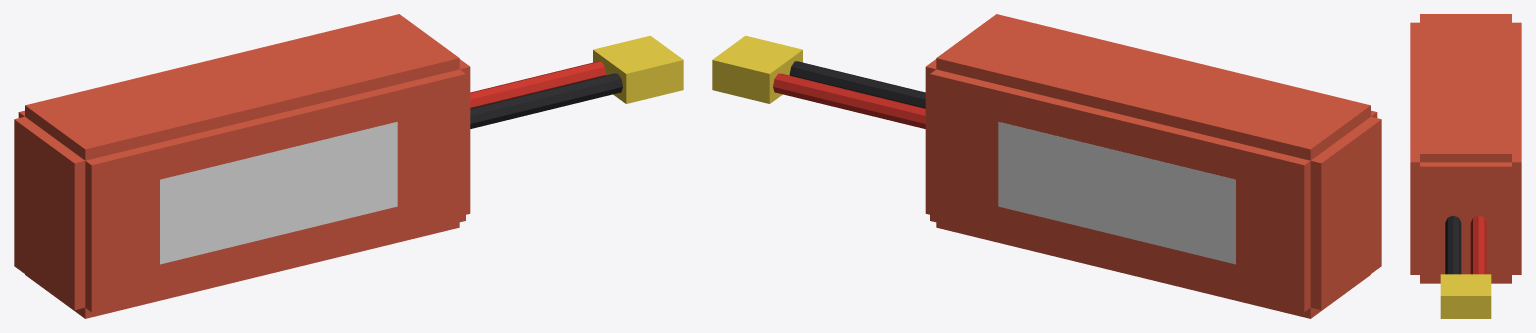
The model's file is Bat_LiPo2200.glb.
The picture shows the model from 3 angles, left to right: view 1: azimuth 30°, elevation 25°; view 2: azimuth 150°, elevation 25°; view 3: azimuth 270°, elevation 25°; orthographic projection. The views are drawn at different scales.
Visible parts, largest first — view 1: Bat_LiPo2200, Label, XT60, LeadB, LeadR; view 2: Bat_LiPo2200, Label, XT60, LeadR, LeadB; view 3: Bat_LiPo2200, XT60, LeadR, LeadB.
Part boxes in pixels (x1,y1,x2,y2): Bat_LiPo2200: (14,14,470,318); Label: (160,122,397,264); XT60: (593,35,683,103); LeadB: (470,73,622,128); LeadR: (470,61,606,108); Bat_LiPo2200: (925,14,1381,318); Label: (998,122,1235,264); XT60: (712,35,802,103); LeadR: (773,73,925,128); LeadB: (789,61,925,108); Bat_LiPo2200: (1410,14,1521,283); XT60: (1440,274,1491,318); LeadR: (1470,215,1486,274); LeadB: (1445,215,1461,274).
Bounding box in the file's own units: 0.173 × 0.045 × 0.0351.
